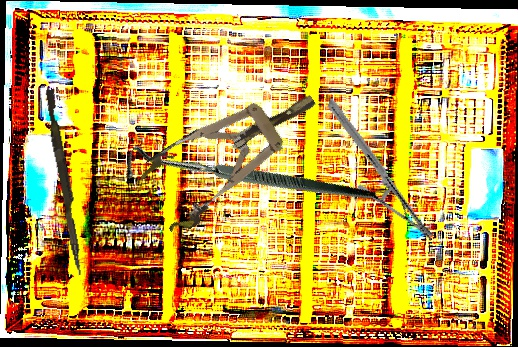Hook Surgical: (116, 60, 377, 304)
Needle Holder: (293, 97, 468, 243)
Pusher: (40, 88, 90, 277)
Speculum: (131, 66, 336, 239)
